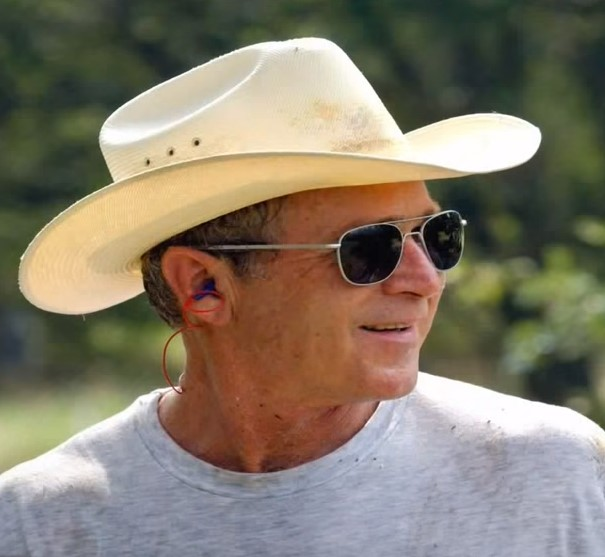face_no_mask: (167, 137, 444, 414)
